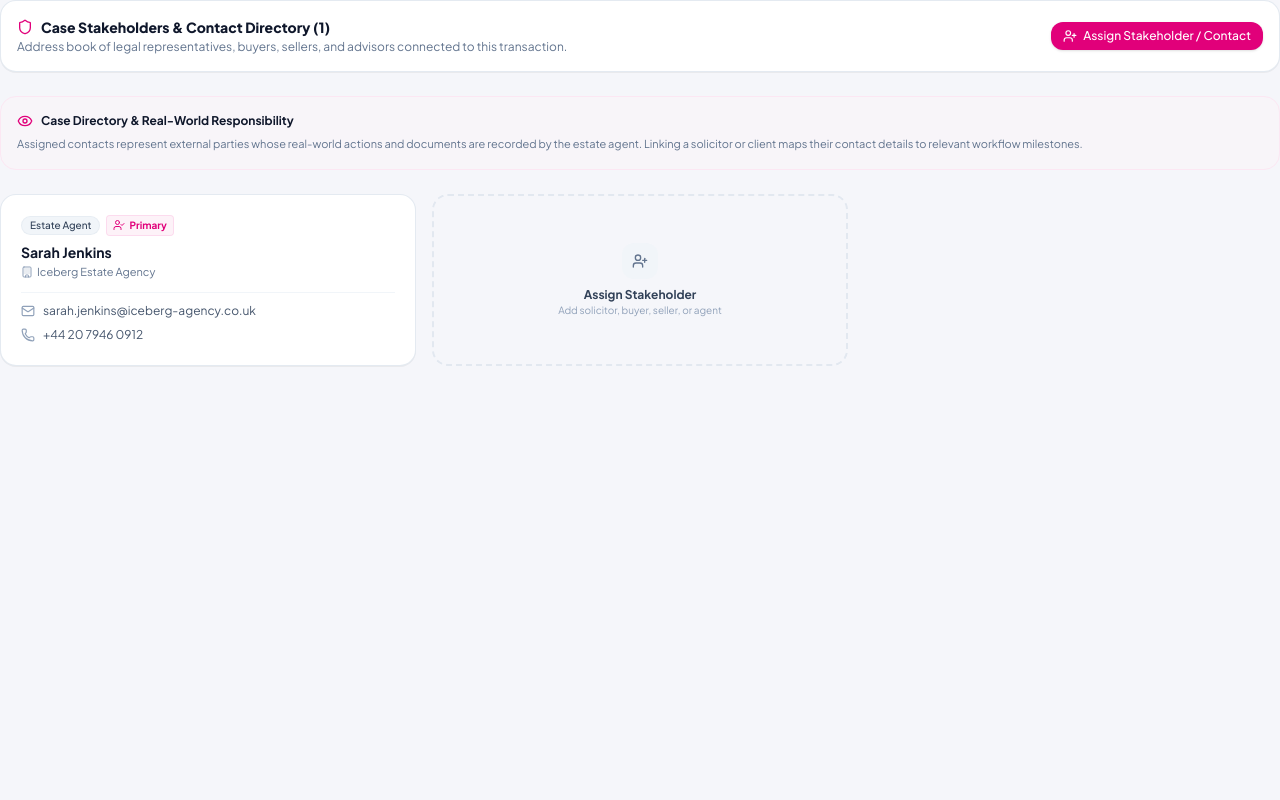
Test: ParticipantsTab & Directory Stakeholder Assignment › displays helper text when isPrimary is toggled on
The image size is (1280, 800).
Click the button "Assign Stakeholder / Contact": (1157, 36) [1051,22,1263,50]
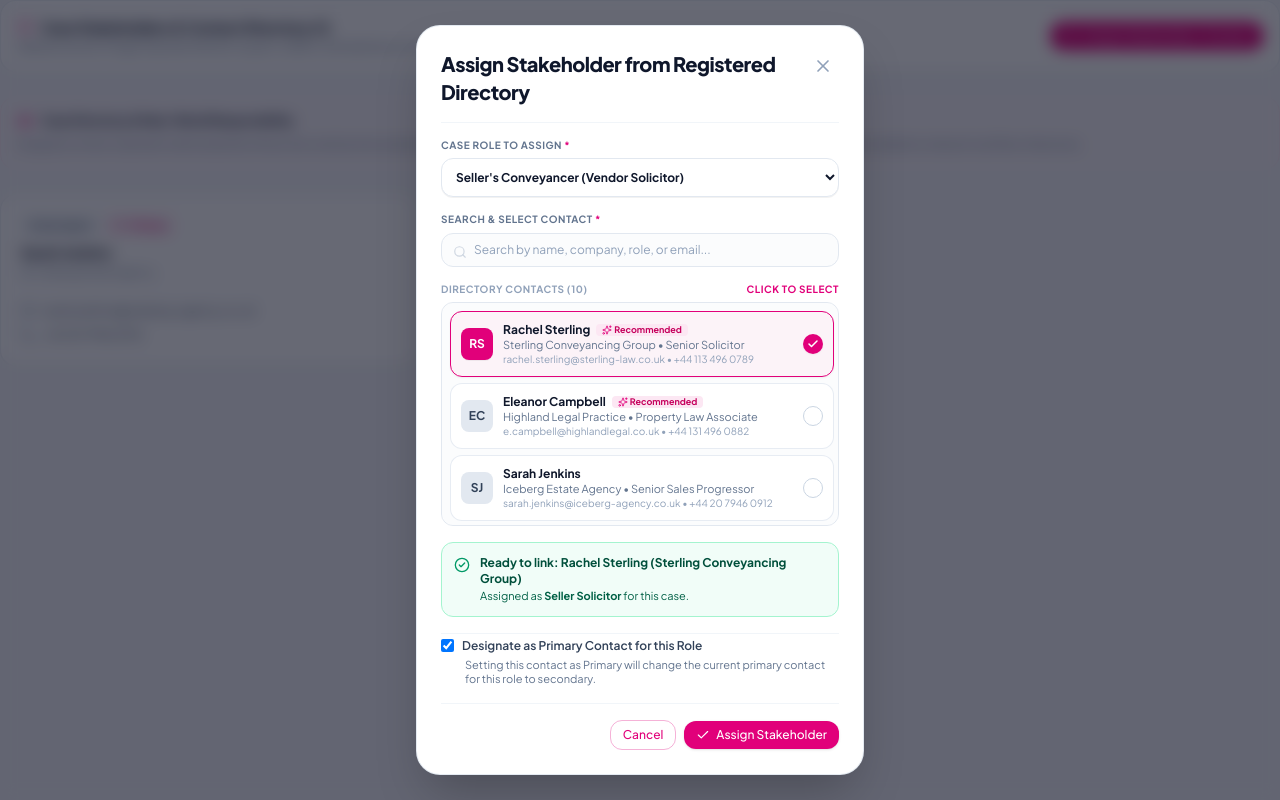
Expected: the text "Setting this contact as Primary will change the current primary contact for this role to secondary." is shown, [465,658,825,685]
Click the checkbox labelled "Designate as Primary Contact for this Role": (448, 646) [441,639,454,652]
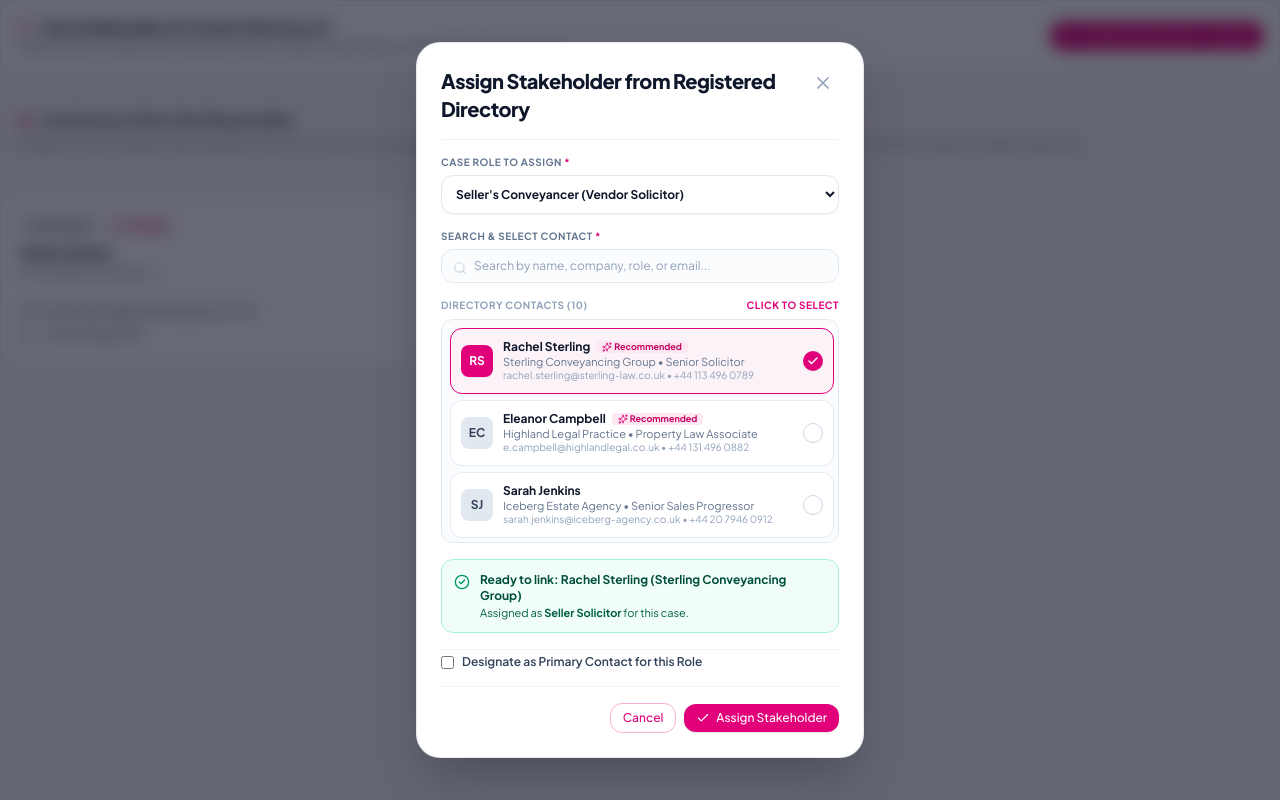
Expected: the text "Setting this contact as Primary will change the current primary contact for this role to secondary." is gone
